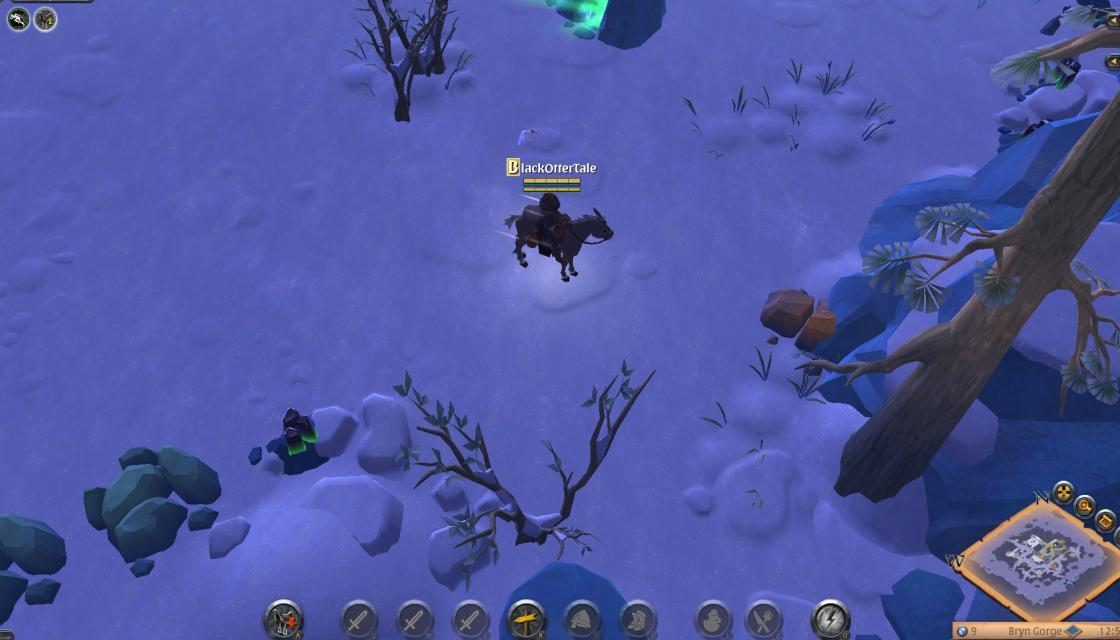limestone: (758, 278, 840, 356)
sandstone: (82, 442, 220, 576), (0, 509, 70, 640)
tinore: (262, 406, 332, 478)
